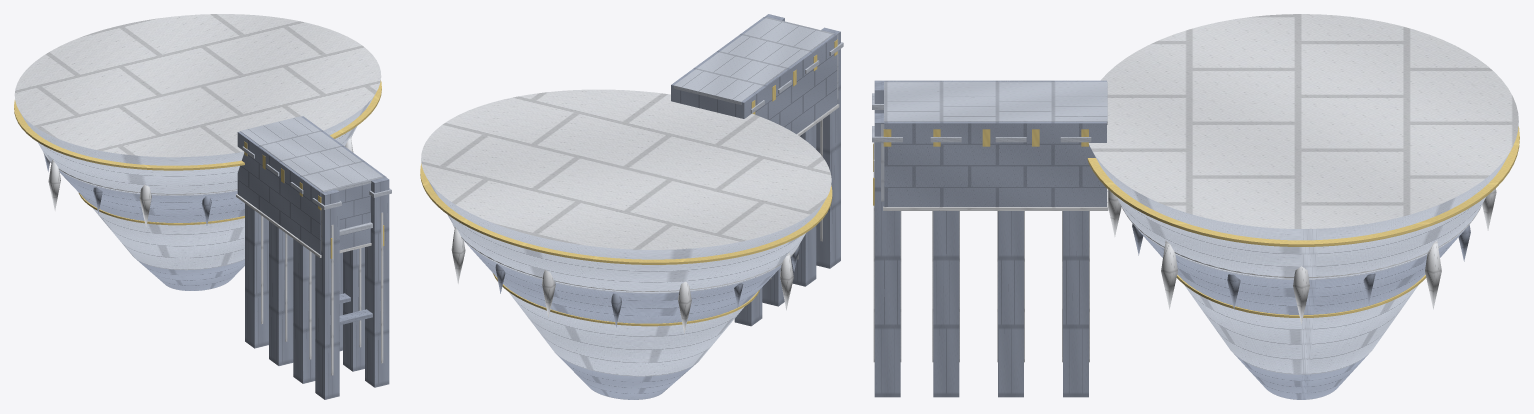
File: high_crown_foundation.obj
3 views of the same model, side by side, from view 1: azimuth 30°, elevation 25°; view 2: azimuth 150°, elevation 25°; view 3: azimuth 270°, elevation 25° (orthographic). The views are drawn at different scales.
Visible parts, largest first — view 1: high_crown_foundation; view 2: high_crown_foundation; view 3: high_crown_foundation.
Boxes of the visible parts, x1,y1,x2,y2 form: high_crown_foundation: (14, 14, 391, 399); high_crown_foundation: (420, 14, 843, 399); high_crown_foundation: (872, 14, 1519, 399).
Bounding box in the file's own units: 82.7 × 49.58 × 105.
Materials: 5 (5 with a texture image).
